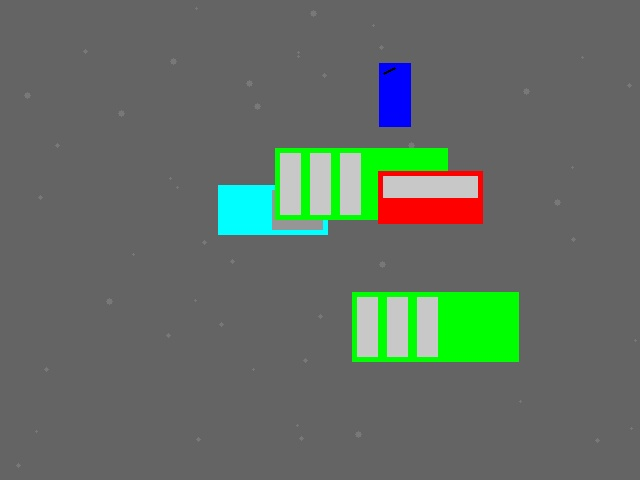bus: (275, 148, 447, 219), (352, 292, 518, 361)
car: (378, 171, 482, 223)
motorcycle: (379, 63, 410, 126)
truck: (218, 185, 327, 234)
